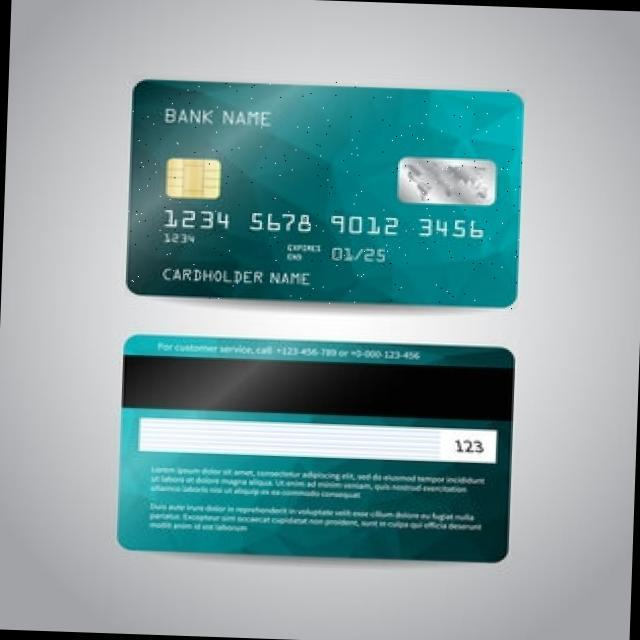payment_card: (125, 77, 525, 308), (116, 333, 515, 563)
